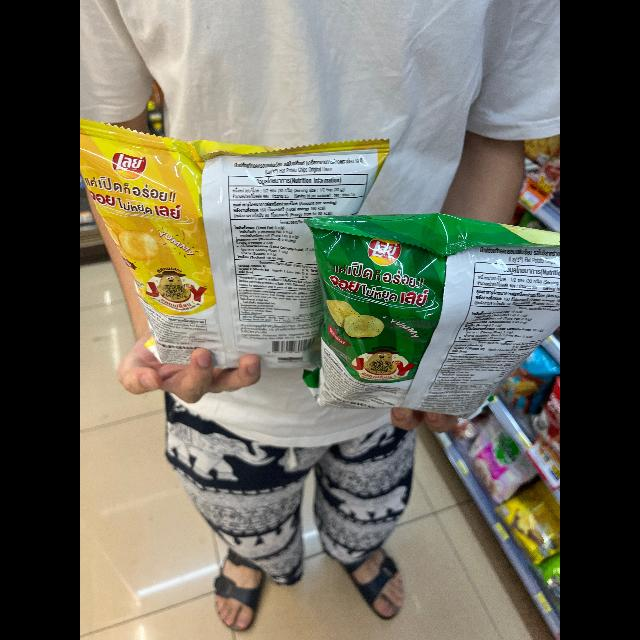snack_bag: (80, 122, 394, 384), (288, 202, 560, 414)
